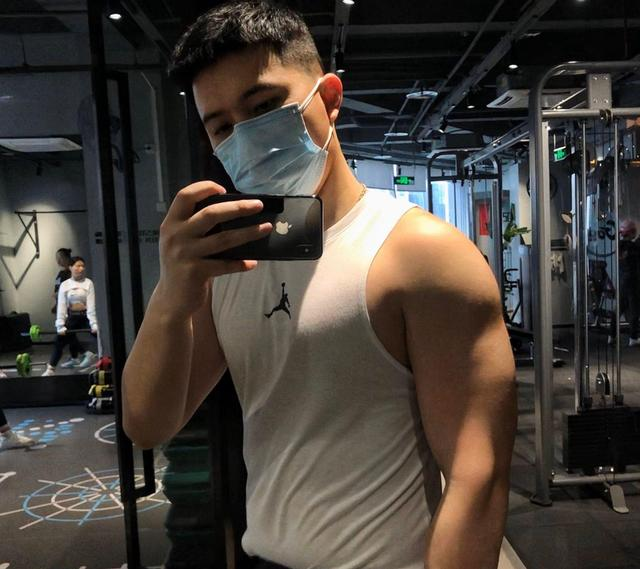person: (165, 19, 559, 499)
